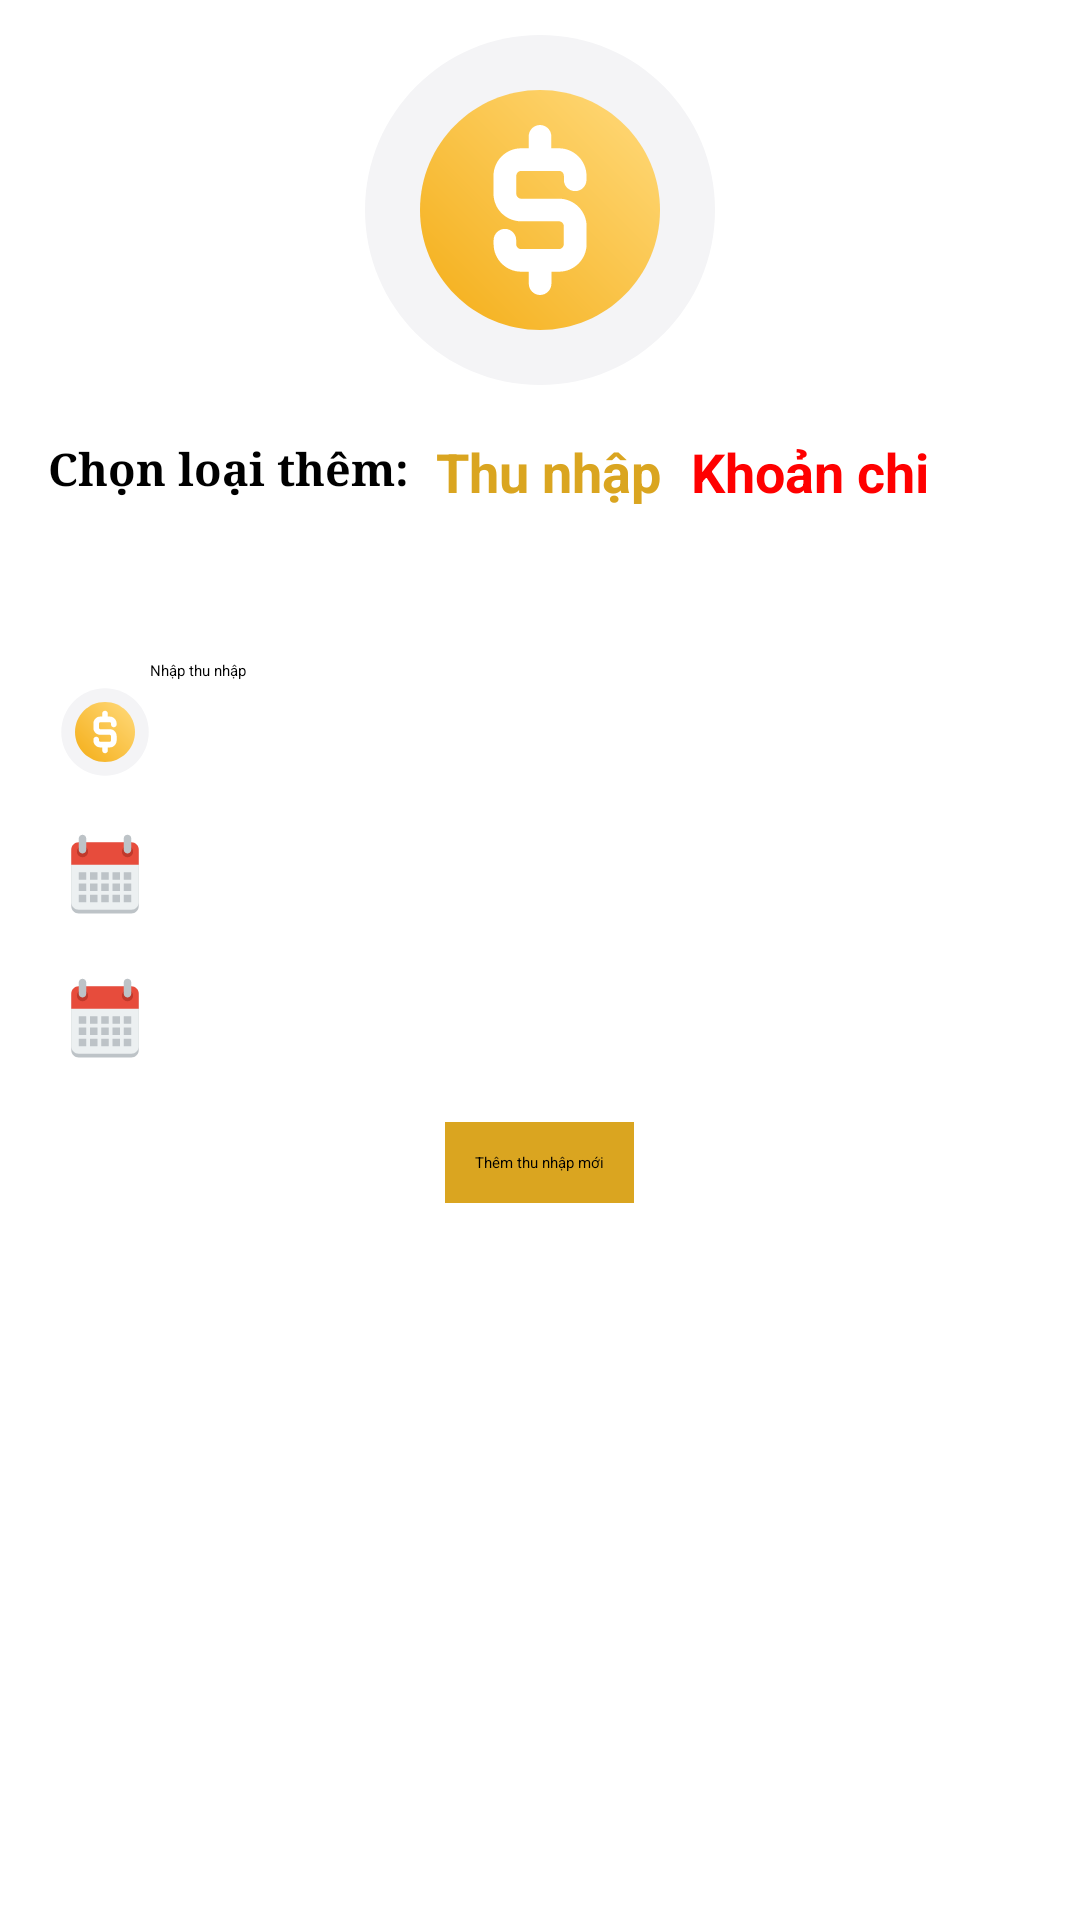

Icon click points for this 1080px×1920px phone screenshot, format (x,y):
calendar: (105,874), (105,1018)
coin dollar money: (540,210), (105,732)
